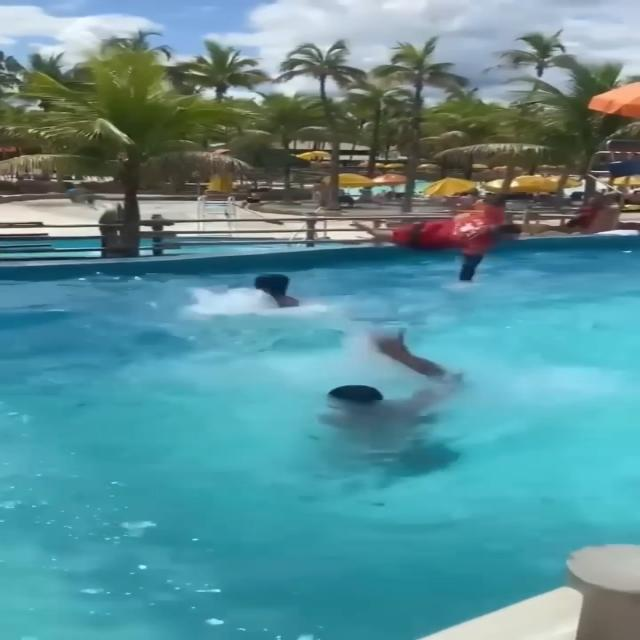Drowning: (283, 341, 477, 470)
Swimming: (203, 269, 326, 318)
